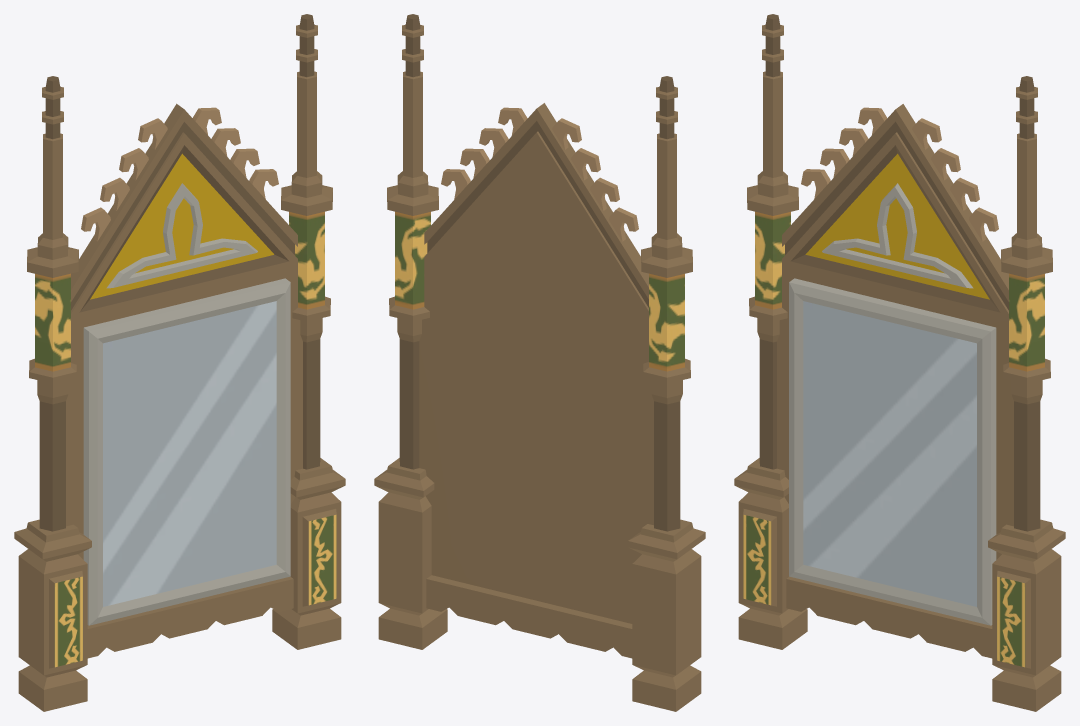
The model's file is elven_SM_Prop_Frame_03.gltf.
3 renders of one model, left to right at view 1: azimuth 30°, elevation 25°; view 2: azimuth 150°, elevation 25°; view 3: azimuth 330°, elevation 25°, orthographic.
Visible parts, largest first — view 1: SM_Prop_Frame_03; view 2: SM_Prop_Frame_03; view 3: SM_Prop_Frame_03.
Part boxes in pixels (x1=…): SM_Prop_Frame_03: x1=14, y1=14, x2=345, y2=711; SM_Prop_Frame_03: x1=374, y1=14, x2=705, y2=711; SM_Prop_Frame_03: x1=734, y1=14, x2=1065, y2=711.
Size of the model in its own units: 1.13 by 2.19 by 0.1924.
Materials: 1 (1 with a texture image).
